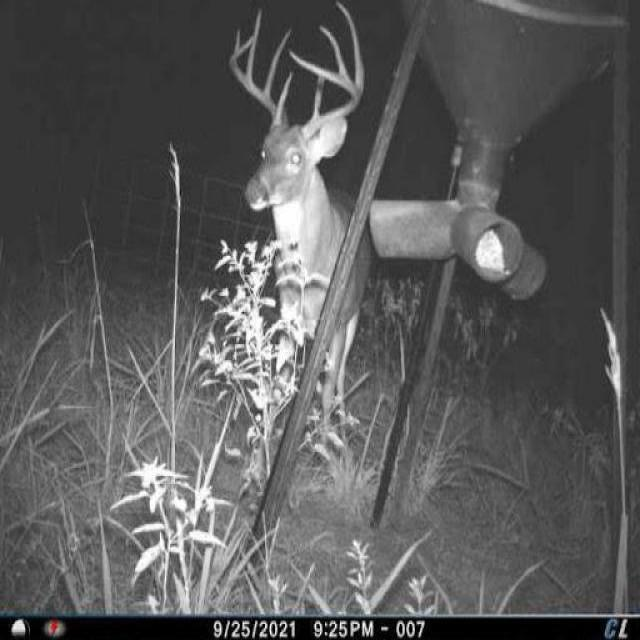deer: (226, 0, 367, 467)
